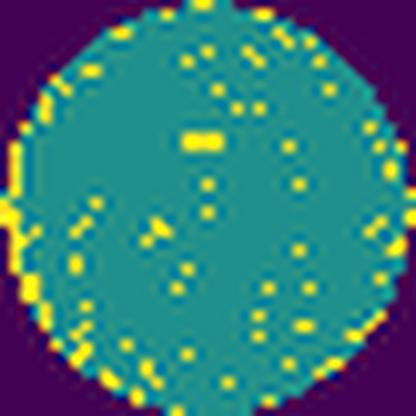Edge-Loc: (0, 139, 56, 333)
